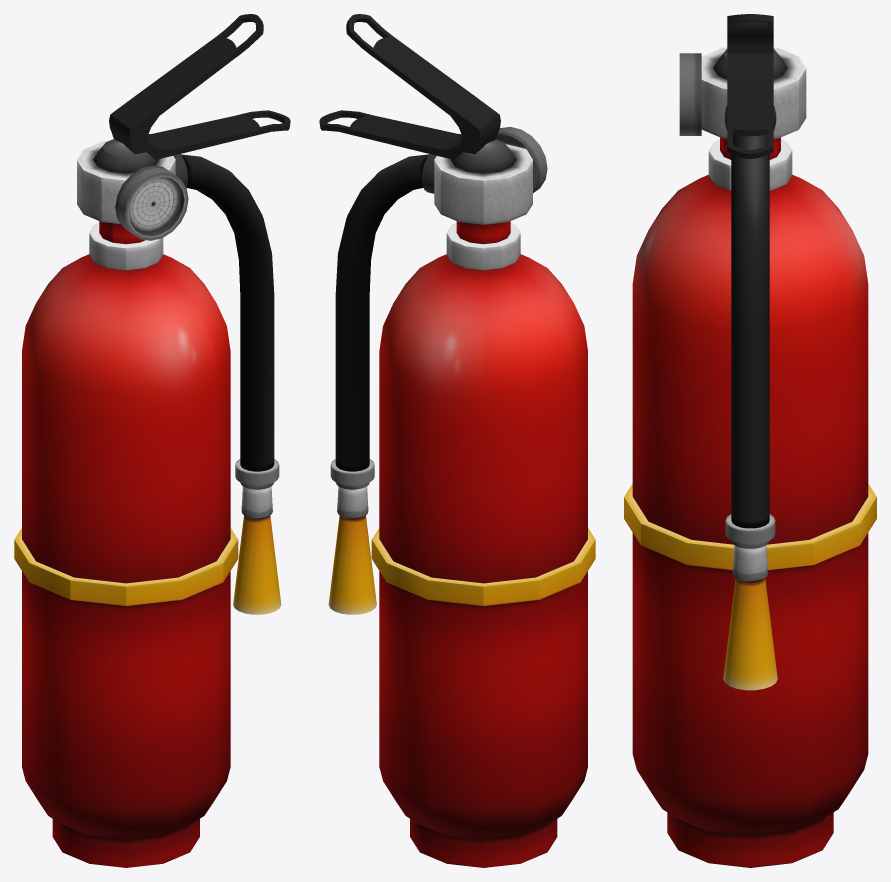
File: FireHydrant.FBX
3 renders of one model, left to right at view 1: azimuth 30°, elevation 25°; view 2: azimuth 150°, elevation 25°; view 3: azimuth 270°, elevation 25°, orthographic. The views are drawn at different scales.
Visible parts, largest first — view 1: Capsule001; view 2: Capsule001; view 3: Capsule001.
Part boxes in pixels (x1=…): Capsule001: x1=14, y1=14, x2=290, y2=867; Capsule001: x1=319, y1=14, x2=595, y2=867; Capsule001: x1=624, y1=14, x2=876, y2=867.
Size of the model in its own units: 10.38 by 30.24 by 7.77.
Materials: 1 (1 with a texture image).
